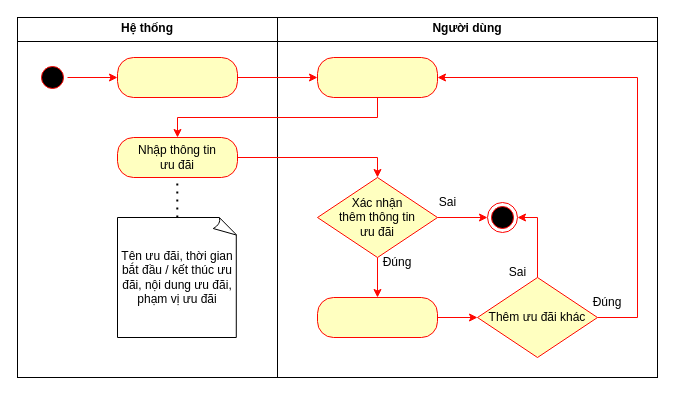
The diagram is 675 pixels wide and 395 high, and some of its shapes have lost their labels. Each missing label, with the centre of its shape:
"Hiển thị biểu mẫu đăng ký" belongs at pixel 377 77.
"Lưu thông tin ưu đãi vào CSDL" belongs at pixel 377 317.
"Thêm ưu đãi" belongs at pixel 177 77.
